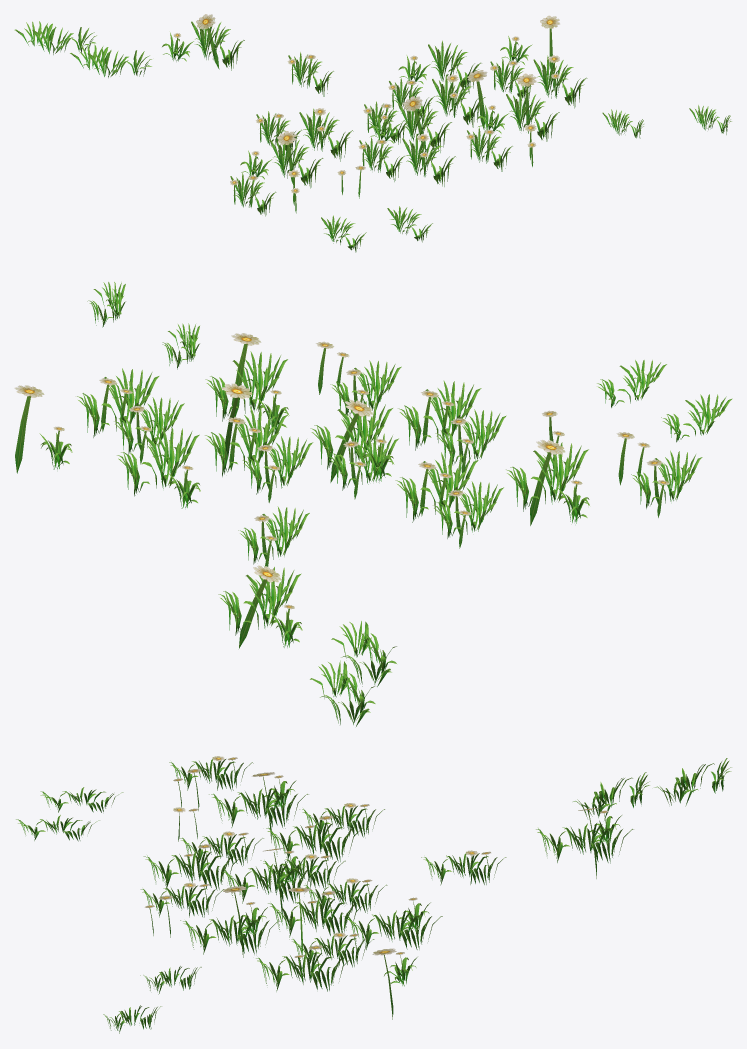
The model's file is huahua_05.fbx.
The picture shows the model from 3 angles, top to bottom: view 1: azimuth 30°, elevation 25°; view 2: azimuth 150°, elevation 25°; view 3: azimuth 270°, elevation 25°; orthographic projection. The views are drawn at different scales.
Visible parts, largest first — view 1: polySurface9330; view 2: polySurface9330; view 3: polySurface9330.
Boxes of the visible parts, <box> form: polySurface9330: <box>14,14,731,252</box>; polySurface9330: <box>14,282,732,726</box>; polySurface9330: <box>16,756,731,1033</box>.
Size of the model in its own units: 1855 by 273 by 2187.
